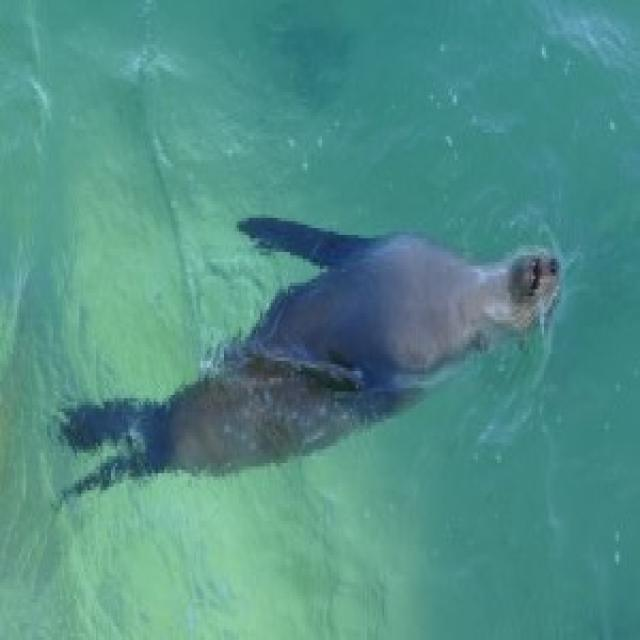Seal: (47, 209, 595, 517)
